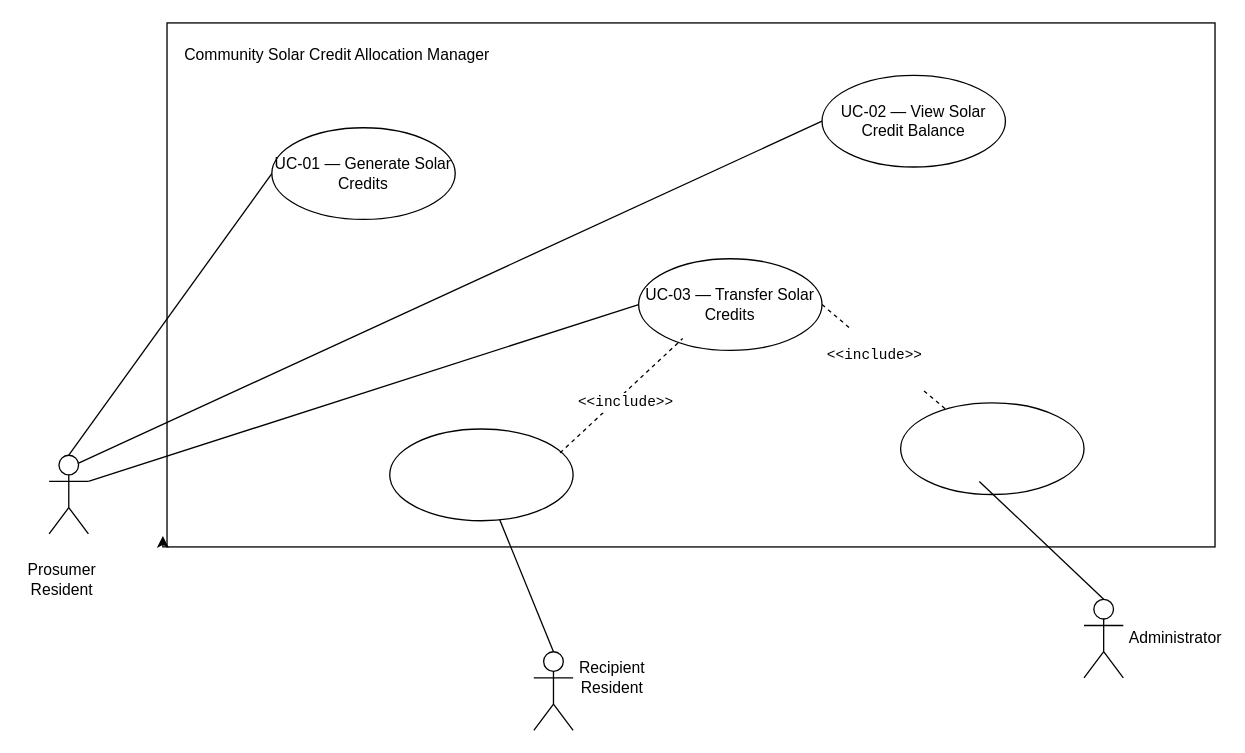
The diagram is 1245 pixels wide and 753 high, and some of its shapes have lost their labels. Each missing label, with the centre of its shape:
"UC-04 — Validate Recipient" goes at pixel 480 474.
"UC-05 — Validate Credit Balance" goes at pixel 991 448.
